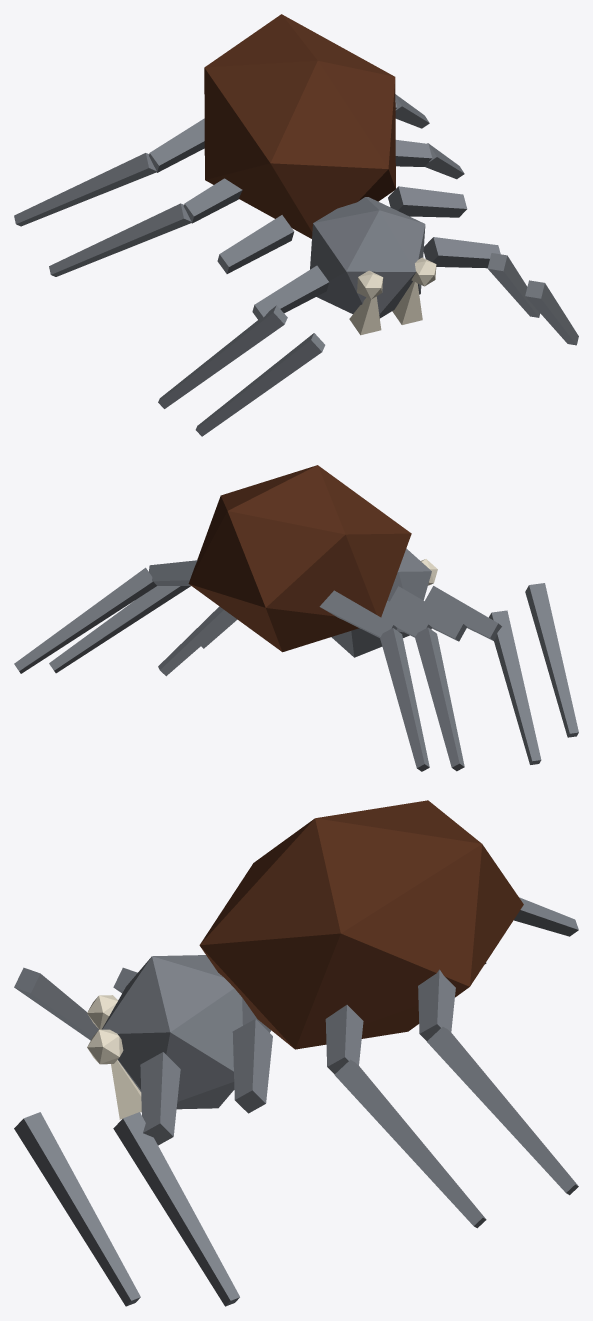
Rendered from npcpose_spider_attack_08.glb.
3 views of the same model, one above another, from view 1: azimuth 30°, elevation 25°; view 2: azimuth 150°, elevation 25°; view 3: azimuth 270°, elevation 25° (orthographic). The views are drawn at different scales.
Parts seen in each view (by area): view 1: npcpose; view 2: npcpose; view 3: npcpose.
Part boxes in pixels (left/top/right/bottom): npcpose: left=14, top=14, right=578, bottom=436; npcpose: left=14, top=465, right=578, bottom=771; npcpose: left=14, top=800, right=578, bottom=1306.
Bounding box in the file's own units: 1.4 × 0.8983 × 1.25.
